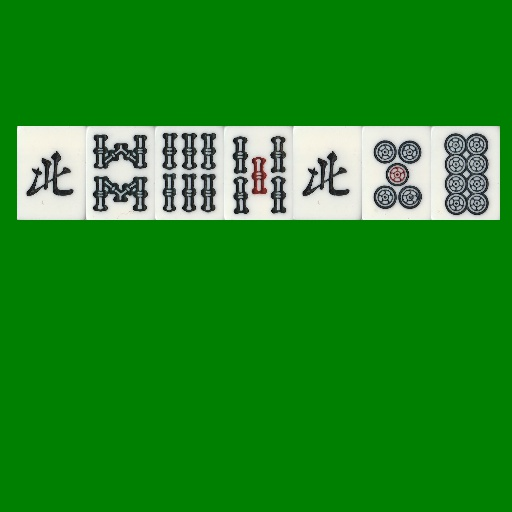5p: (362, 126, 431, 220)
5s: (224, 126, 293, 220)
6s: (155, 126, 224, 220)
8p: (431, 126, 500, 220)
8s: (86, 126, 155, 220)
north: (17, 126, 86, 220), (293, 126, 362, 220)
